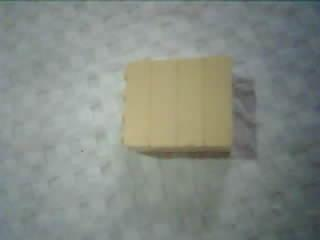lego: (119, 50, 237, 158)
